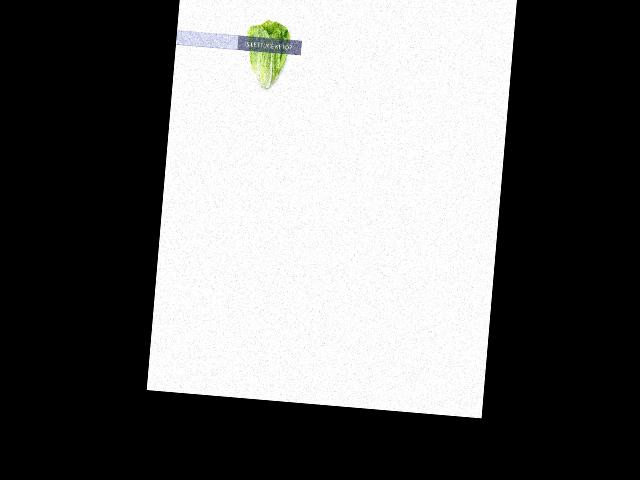lettuce: (240, 18, 295, 97)
